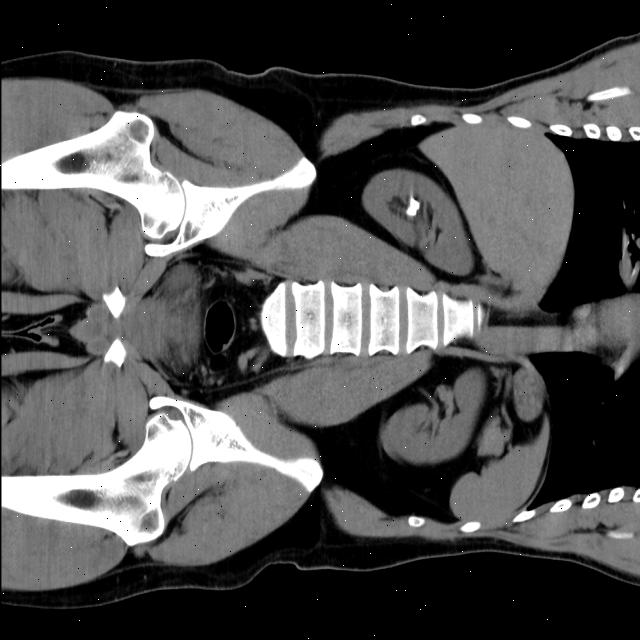kidneystone: (405, 197, 420, 217)
